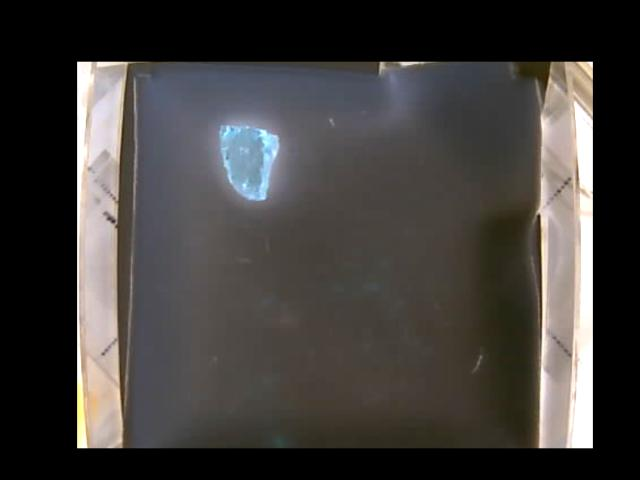Brisk: (218, 121, 280, 201)
